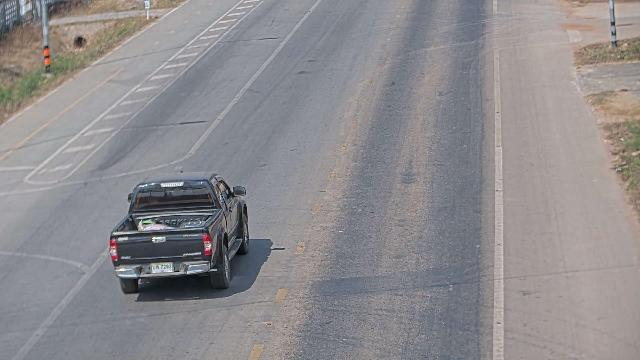pickup-truck: (108, 170, 250, 294)
